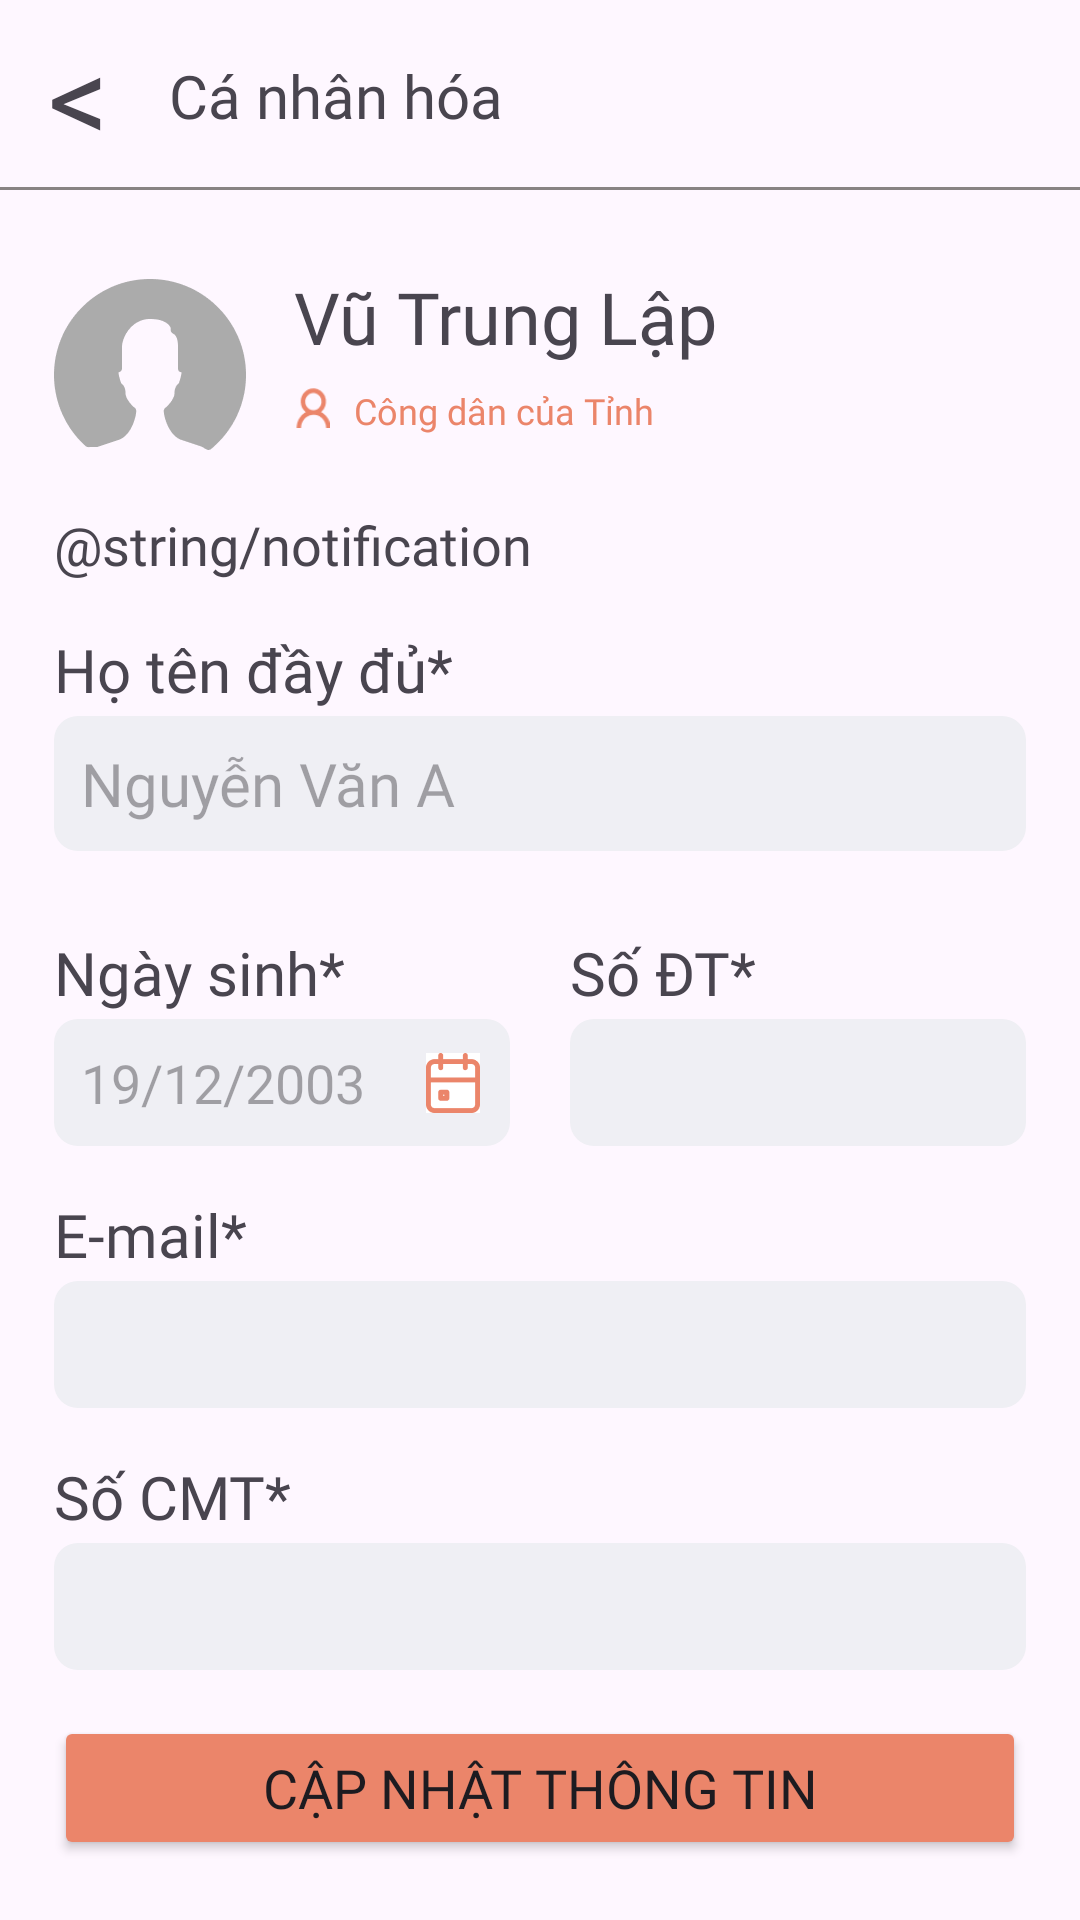

Named icons in this screenshot (1080 × 1920) and their centers, (x,y):
calendar: (453,1083)
smallperson: (313,408)
